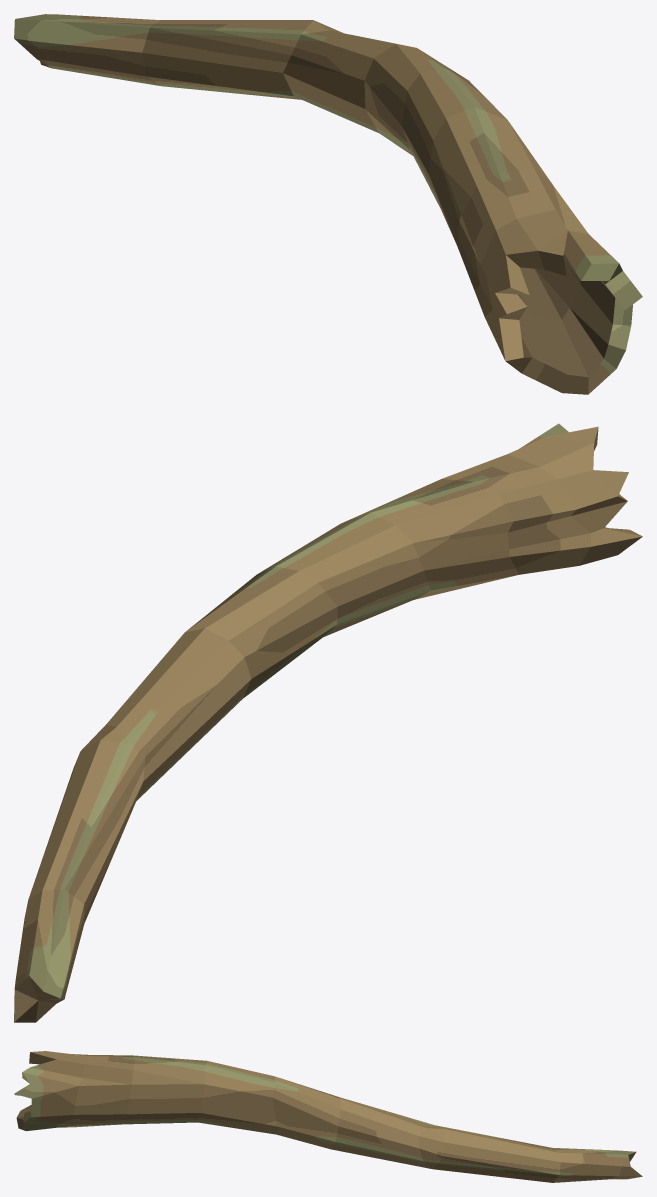
The model's file is SM_Prop_Swamp_Log_04.fbx.
3 renders of one model, top to bottom at view 1: azimuth 30°, elevation 25°; view 2: azimuth 150°, elevation 25°; view 3: azimuth 270°, elevation 25°, orthographic. The views are drawn at different scales.
Parts seen in each view (by area): view 1: SM_Prop_Swamp_Log_04; view 2: SM_Prop_Swamp_Log_04; view 3: SM_Prop_Swamp_Log_04.
Part boxes in pixels (bbox=[...]): SM_Prop_Swamp_Log_04: bbox=[14, 14, 642, 394]; SM_Prop_Swamp_Log_04: bbox=[14, 423, 642, 1022]; SM_Prop_Swamp_Log_04: bbox=[14, 1051, 642, 1182].
Size of the model in its own units: 175 by 182 by 826.
Materials: 1 (1 with a texture image).
